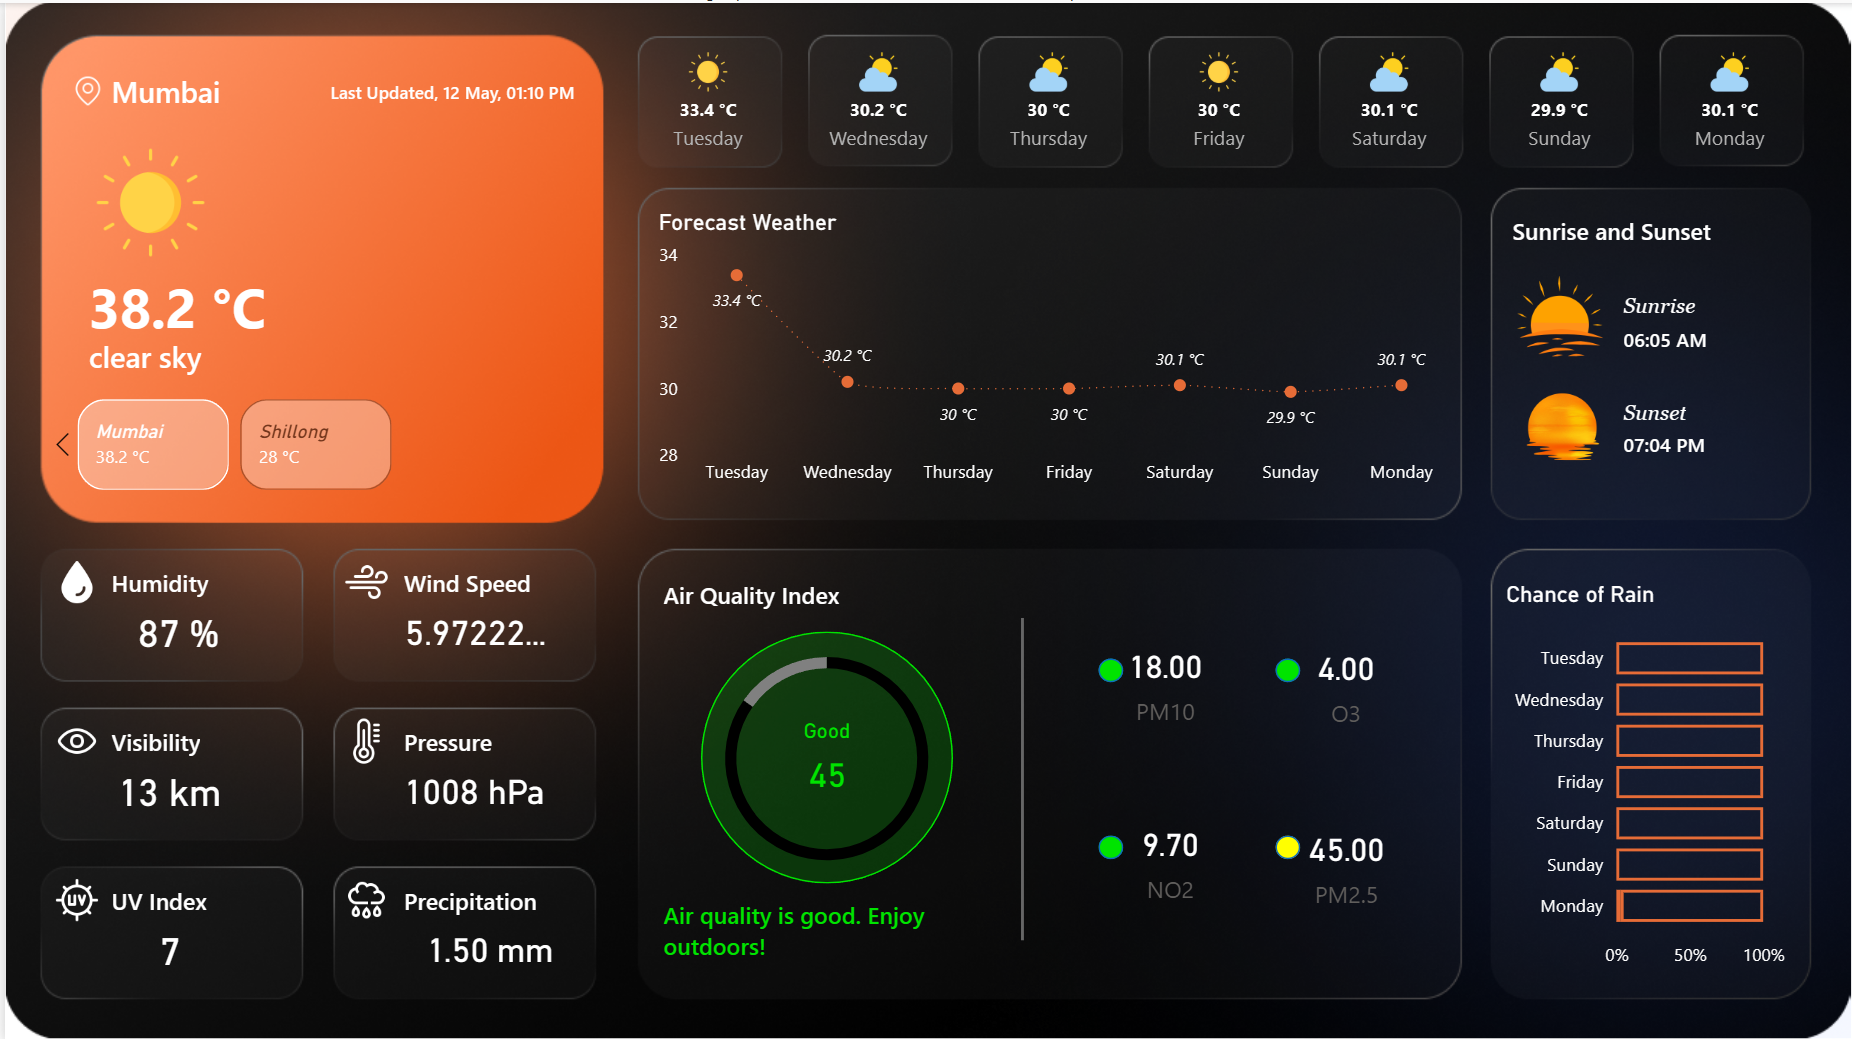

Layout of this report page (visuals, bound fields, positions):
{"tool":"powerbi","page":{"name":"Page 1","canvas":[1280,720],"ordinal":0},"visuals":[{"type":"shape","box":[482.3,435.5,174.6,174.6],"z":0},{"type":"donutChart","fields":{"Y":["AQIData.MaxValue","AQIData.Indian AQI"]},"box":[456.3,430.3,225.6,186.1],"z":1000},{"type":"shape","box":[58.2,185,155.9,46.8],"z":2000},{"type":"shape","box":[58.2,231.8,242.2,26],"z":3000},{"type":"shape","box":[73.8,41.6,106,40.5],"z":4000},{"type":"image","box":[46.7,50.7,20.7,20],"z":5000},{"type":"multiRowCard","fields":{"Values":["WeatherData.Weather Icon URL"]},"box":[58.2,95.6,90.4,93.6],"z":6000},{"type":"image","box":[32.2,385.6,35.3,31.2],"z":7000},{"type":"image","box":[232.8,385.6,35.3,31.2],"z":8000},{"type":"image","box":[32.2,495.8,35.3,31.2],"z":9000},{"type":"image","box":[232.8,495.8,35.3,31.2],"z":10000},{"type":"image","box":[32.2,606,35.3,31.2],"z":11000},{"type":"image","box":[232.8,606,35.3,31.2],"z":12000},{"type":"shape","box":[73.8,388.8,106,24.9],"z":13000},{"type":"shape","box":[276.5,388.8,106,24.9],"z":14000},{"type":"shape","box":[73.8,498.9,106,24.9],"z":15000},{"type":"shape","box":[276.5,498.9,106,24.9],"z":16000},{"type":"shape","box":[73.8,609.1,106,24.9],"z":17000},{"type":"shape","box":[276.5,609.1,106,24.9],"z":18000},{"type":"card","fields":{"Values":["AQIData.Latest Humidity"]},"box":[73.8,413.7,92.5,43.7],"z":19000},{"type":"card","fields":{"Values":["AQIData.Latest Wind"]},"box":[268.2,413.7,114.3,43.7],"z":20000},{"type":"card","fields":{"Values":["WeatherData.Visibility"]},"box":[67.6,523.9,92.5,43.7],"z":21000},{"type":"card","fields":{"Values":["AQIData.Latest Pressure"]},"box":[257.8,523.9,134.1,43.7],"z":22000},{"type":"card","fields":{"Values":["WeatherData.UV Index"]},"box":[67.6,634.1,92.5,43.7],"z":23000},{"type":"card","fields":{"Values":["WeatherData.Precipitation"]},"box":[276.5,634.1,118.5,43.7],"z":24000},{"type":"advancedSlicerVisual","fields":{"Values":["ForecastData.day_name"]},"box":[427.2,28.1,833.7,91.5],"z":25000},{"type":"lineChart","title":"Forecast Weather","fields":{"Category":["ForecastData.day_name"],"Y":["Avg(ForecastData.temp)"]},"box":[448,142.4,555.1,200.6],"z":26000},{"type":"shape","box":[225.6,47.8,181.9,28.1],"z":27000},{"type":"image","box":[1042,185,72,64],"z":28000},{"type":"shape","box":[1045,142,142,31],"z":29000},{"type":"shape","box":[1122,221,65,22],"z":30000},{"type":"shape","box":[1122,202,56,17],"z":31000},{"type":"image","box":[1042,262.3,76,63],"z":32000},{"type":"shape","box":[1122,273,56,21],"z":33000},{"type":"shape","box":[1122,294,65,22],"z":34000},{"type":"hundredPercentStackedBarChart","title":"Chance of Rain","fields":{"Category":["ForecastData.day_name"],"Y":["ForecastData.Chance of Rain %","ForecastData.Label Position"]},"box":[1035.5,400,202.7,277.3],"z":35000},{"type":"shape","box":[456.3,394,142.4,32.2],"z":36000},{"type":"card","fields":{"Values":["Sum(AQIData.o3)"]},"box":[884,430,91,82],"z":37000},{"type":"card","fields":{"Values":["Sum(AQIData.pm2_5)"]},"box":[889,556,81,81],"z":38000},{"type":"card","fields":{"Values":["Sum(AQIData.no2)"]},"box":[758,553,99,81],"z":39000},{"type":"card","fields":{"Values":["Sum(AQIData.pm10)"]},"box":[758,430,92,79],"z":40000},{"type":"shape","box":[757.9,454.3,17.1,16.4],"z":41000},{"type":"shape","box":[880.7,454.3,17.1,16.4],"z":42000},{"type":"shape","box":[757.9,577.1,17.1,16.4],"z":43000},{"type":"shape","box":[880.7,577.1,17.1,16.4],"z":44000},{"type":"shape","box":[651.7,426.7,106.7,223.3],"z":45000},{"type":"card","fields":{"Values":["AQIData.Indian AQI"]},"box":[523.9,495.8,91.5,61.3],"z":46000},{"type":"shape","box":[456.3,617.4,233.9,48.9],"z":47000},{"type":"advancedSlicerVisual","fields":{"Values":["CityList.city"]},"box":[24.9,269.2,382.5,73.8],"z":48000}]}

Visuals, with their boxes in screenshot pixels (x1, y1, x2, y2), scaled from the page's 1280x720 canvas onto the 1852x1039 screenshot:
shape: crop(698, 628, 950, 880)
donutChart - AQIData.MaxValue x AQIData.Indian AQI: crop(660, 621, 987, 889)
shape: crop(84, 267, 310, 335)
shape: crop(84, 335, 435, 372)
shape: crop(107, 60, 260, 118)
image: crop(68, 73, 98, 102)
multiRowCard - WeatherData.Weather Icon URL: crop(84, 138, 215, 273)
image: crop(47, 556, 98, 601)
image: crop(337, 556, 388, 601)
image: crop(47, 715, 98, 760)
image: crop(337, 715, 388, 760)
image: crop(47, 874, 98, 920)
image: crop(337, 874, 388, 920)
shape: crop(107, 561, 260, 597)
shape: crop(400, 561, 553, 597)
shape: crop(107, 720, 260, 756)
shape: crop(400, 720, 553, 756)
shape: crop(107, 879, 260, 915)
shape: crop(400, 879, 553, 915)
card - AQIData.Latest Humidity: crop(107, 597, 241, 660)
card - AQIData.Latest Wind: crop(388, 597, 553, 660)
card - WeatherData.Visibility: crop(98, 756, 232, 819)
card - AQIData.Latest Pressure: crop(373, 756, 567, 819)
card - WeatherData.UV Index: crop(98, 915, 232, 978)
card - WeatherData.Precipitation: crop(400, 915, 572, 978)
advancedSlicerVisual - ForecastData.day_name: crop(618, 41, 1824, 173)
"Forecast Weather" lineChart: crop(648, 205, 1451, 495)
shape: crop(326, 69, 590, 110)
image: crop(1508, 267, 1612, 359)
shape: crop(1512, 205, 1717, 250)
shape: crop(1623, 319, 1717, 351)
shape: crop(1623, 291, 1704, 316)
image: crop(1508, 379, 1618, 469)
shape: crop(1623, 394, 1704, 424)
shape: crop(1623, 424, 1717, 456)
"Chance of Rain" hundredPercentStackedBarChart: crop(1498, 577, 1792, 977)
shape: crop(660, 569, 866, 615)
card - Sum(AQIData.o3): crop(1279, 621, 1411, 739)
card - Sum(AQIData.pm2_5): crop(1286, 802, 1403, 919)
card - Sum(AQIData.no2): crop(1097, 798, 1240, 915)
card - Sum(AQIData.pm10): crop(1097, 621, 1230, 735)
shape: crop(1097, 656, 1121, 679)
shape: crop(1274, 656, 1299, 679)
shape: crop(1097, 833, 1121, 856)
shape: crop(1274, 833, 1299, 856)
shape: crop(943, 616, 1097, 938)
card - AQIData.Indian AQI: crop(758, 715, 890, 804)
shape: crop(660, 891, 999, 962)
advancedSlicerVisual - CityList.city: crop(36, 388, 589, 495)
